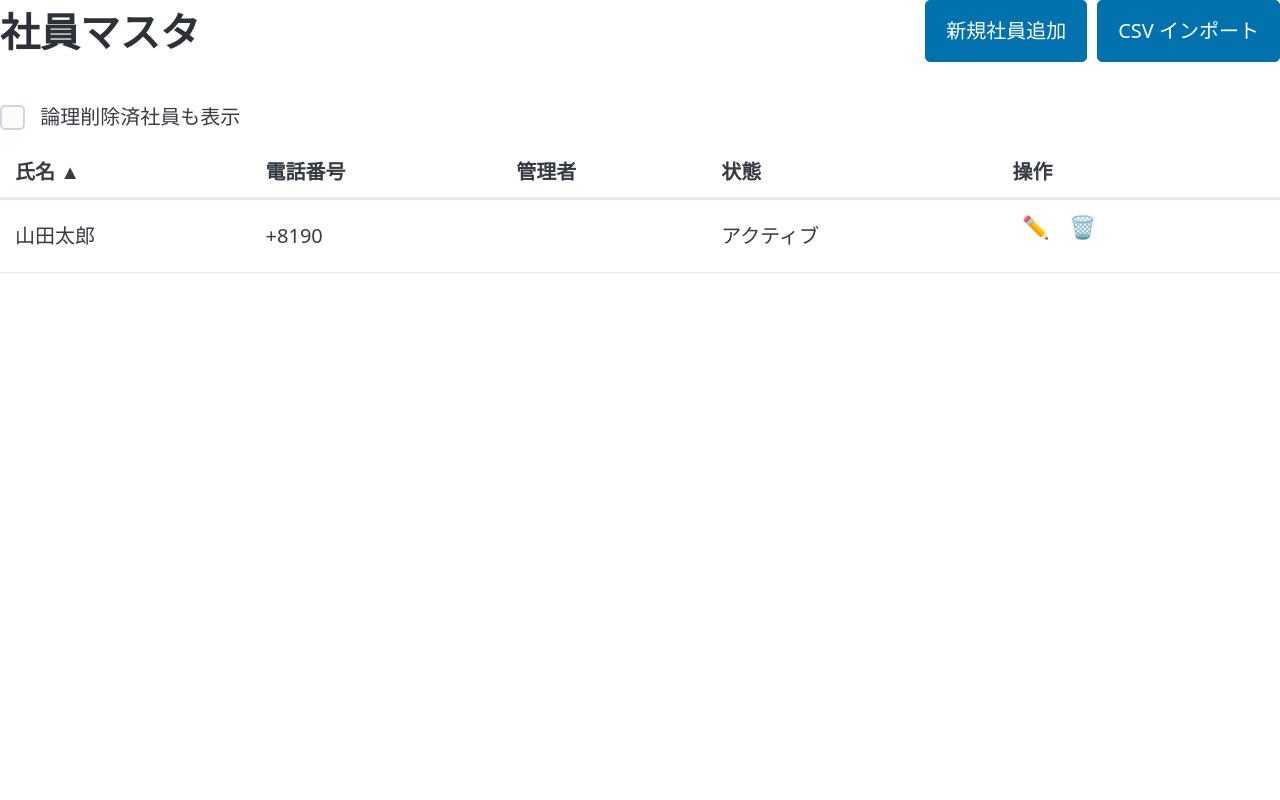
EmployeeListPage › 削除ボタンで確認ダイアログを開き、削除確定で remove → list が呼ばれる
This screenshot has width=1280, height=800.
Click the button named "を削除": (1083, 226) [1060,210,1106,242]
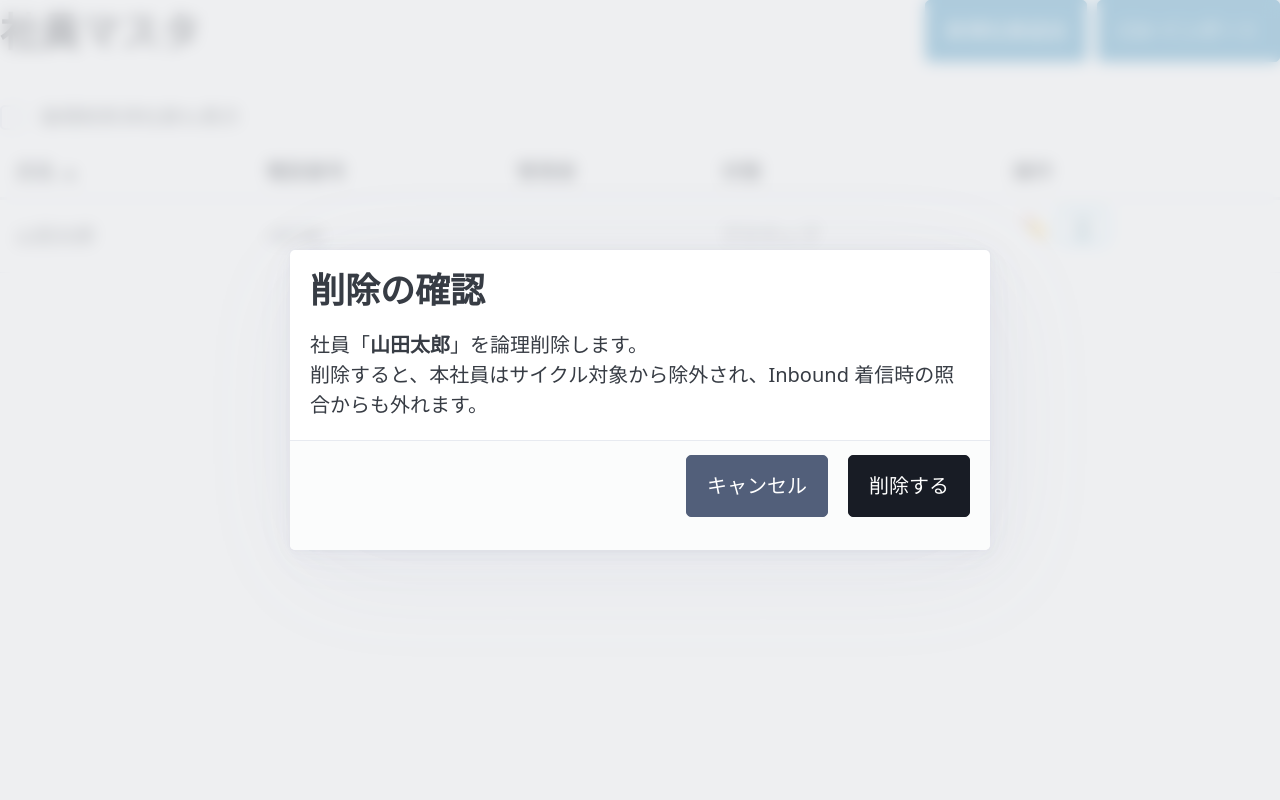
Expected: the dialog is shown
Expected: the heading "削除の確認" is shown, [310,266,485,313]
Click the button "削除する": (909, 486) [848,455,970,517]
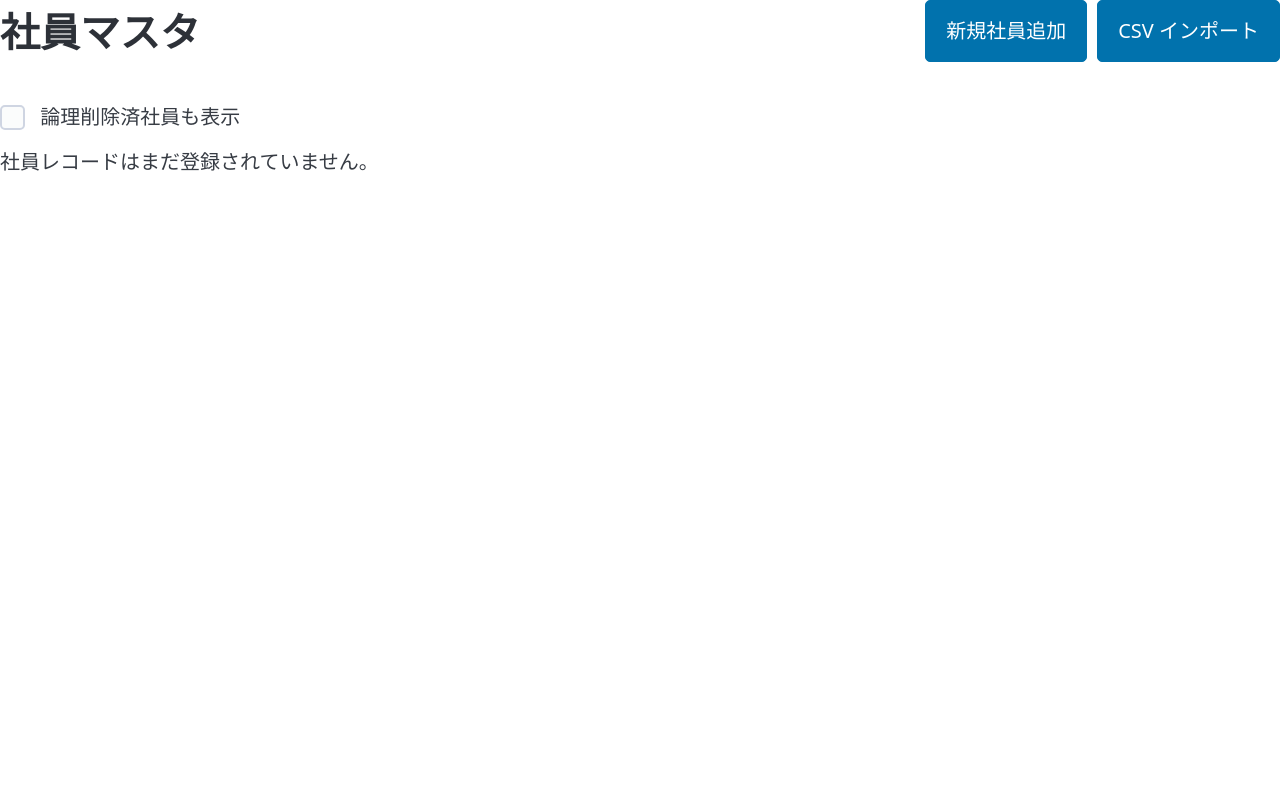
Expected: the dialog is gone
